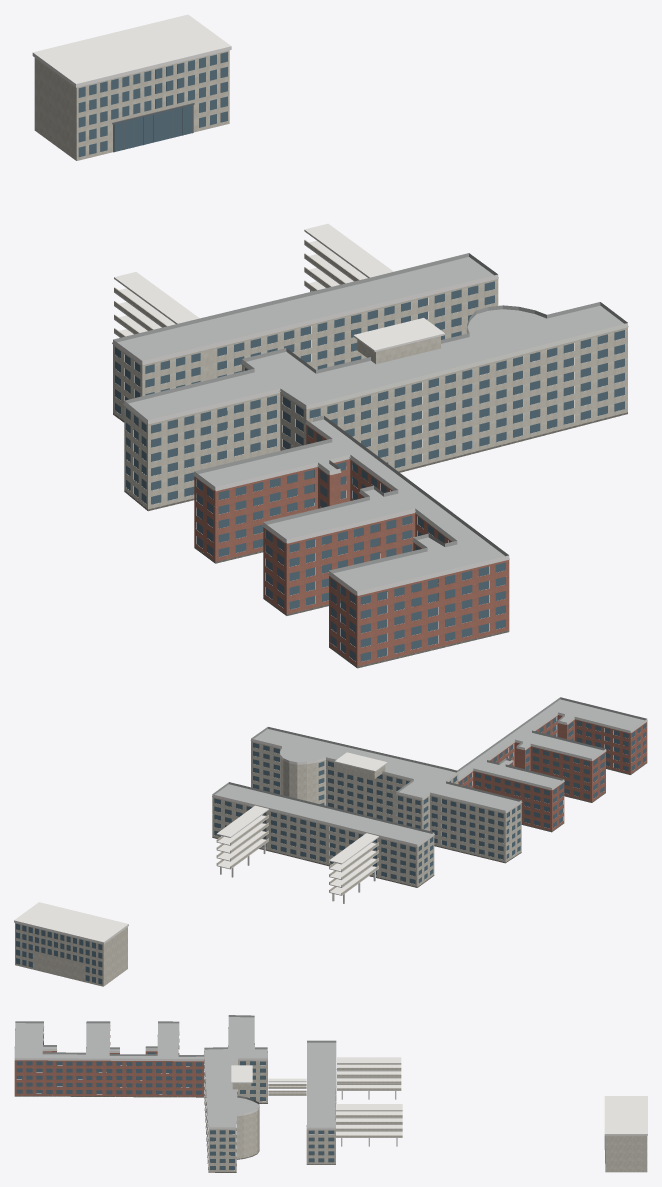
File: d02_academic_core_lod1.glb
3 renders of one model, top to bottom at view 1: azimuth 30°, elevation 25°; view 2: azimuth 150°, elevation 25°; view 3: azimuth 270°, elevation 25°, orthographic. The views are drawn at different scales.
Visible parts, largest first — view 1: science.001, south_classrooms.001, erhao.001, keji_tech_building.001, link_e12.001, link_w12.001; view 2: science.001, south_classrooms.001, erhao.001, keji_tech_building.001, link_e12.001, link_w12.001; view 3: south_classrooms.001, science.001, erhao.001, keji_tech_building.001, link_e12.001, link_w12.001, link_sci2.001.
Part boxes in pixels (x1=…): science.001: x1=123, y1=302, x2=628, y2=511; south_classrooms.001: x1=193, y1=415, x2=509, y2=668; erhao.001: x1=112, y1=253, x2=498, y2=432; keji_tech_building.001: x1=32, y1=14, x2=231, y2=160; link_e12.001: x1=304, y1=223, x2=393, y2=291; link_w12.001: x1=114, y1=272, x2=199, y2=337; science.001: x1=250, y1=727, x2=522, y2=863; south_classrooms.001: x1=457, y1=697, x2=647, y2=832; erhao.001: x1=212, y1=782, x2=434, y2=887; keji_tech_building.001: x1=14, y1=902, x2=128, y2=986; link_e12.001: x1=216, y1=805, x2=268, y2=877; link_w12.001: x1=329, y1=833, x2=378, y2=903; south_classrooms.001: x1=14, y1=1021, x2=204, y2=1097; science.001: x1=203, y1=1015, x2=267, y2=1172; erhao.001: x1=306, y1=1040, x2=336, y2=1164; keji_tech_building.001: x1=604, y1=1096, x2=647, y2=1172; link_e12.001: x1=336, y1=1104, x2=402, y2=1146; link_w12.001: x1=337, y1=1057, x2=401, y2=1099; link_sci2.001: x1=268, y1=1078, x2=306, y2=1095.
Bounding box in the file's own units: 122 × 25.65 × 287.
Materials: 7 (3 with a texture image).
